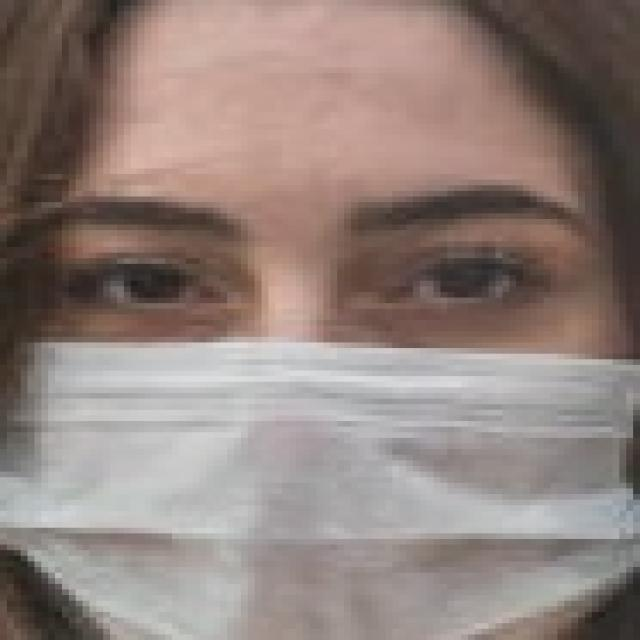Anxiety: (4, 0, 633, 634)
